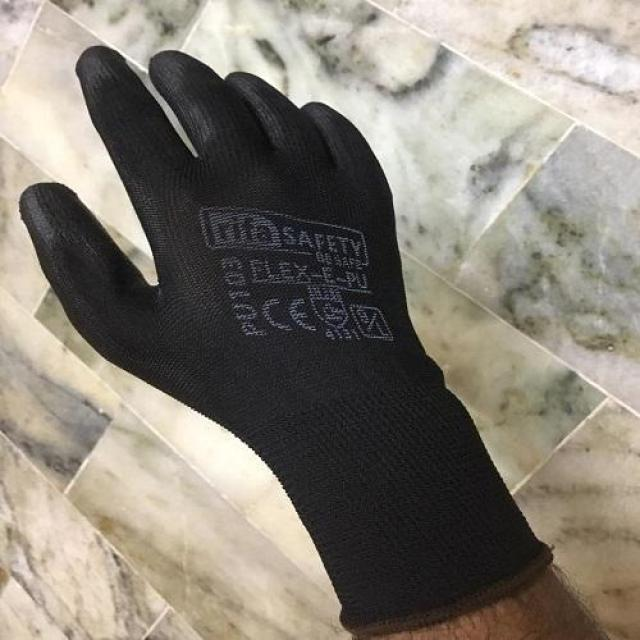gloves: (18, 48, 558, 638)
